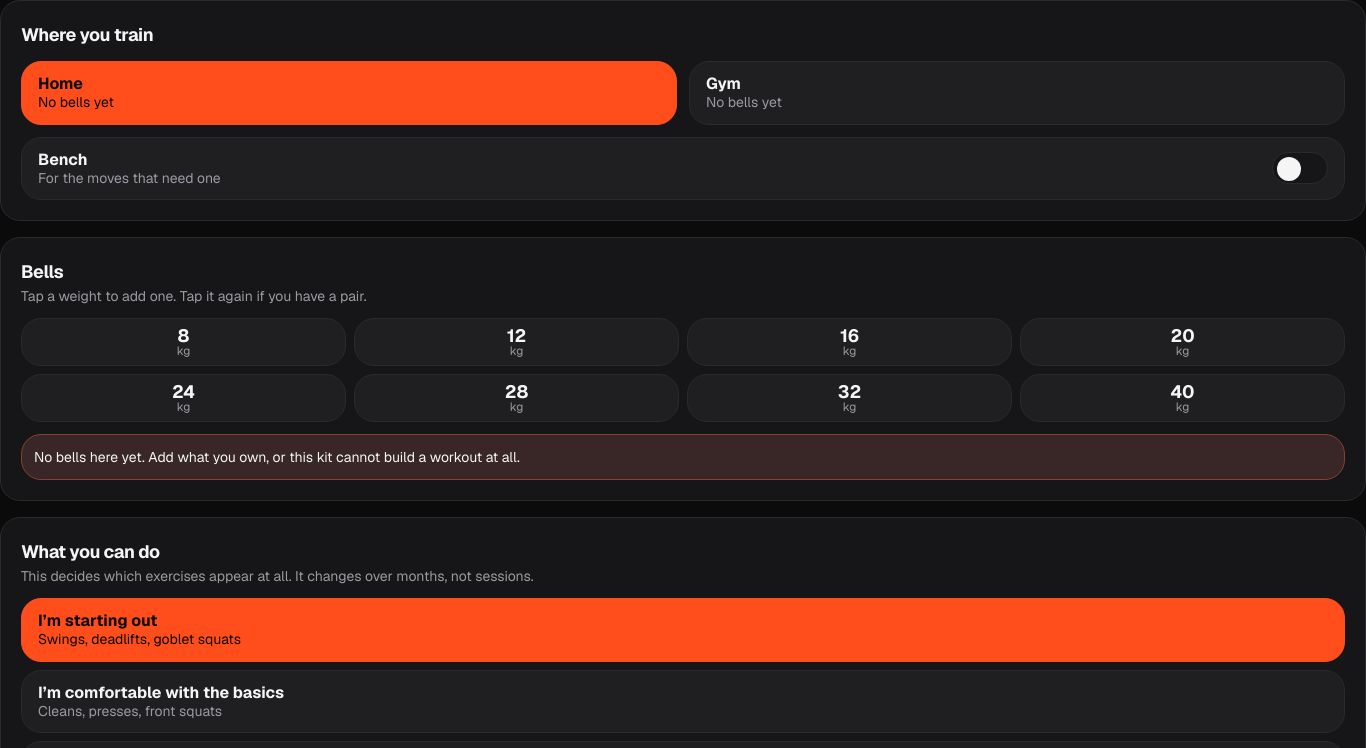
Test: KitEditor › adds a bell from a weight chip and persists it
Step 1. Click the button with aria-label "Add a 24 kg bell" → (184, 398), box top-left (21, 374), bottom-right (346, 422)
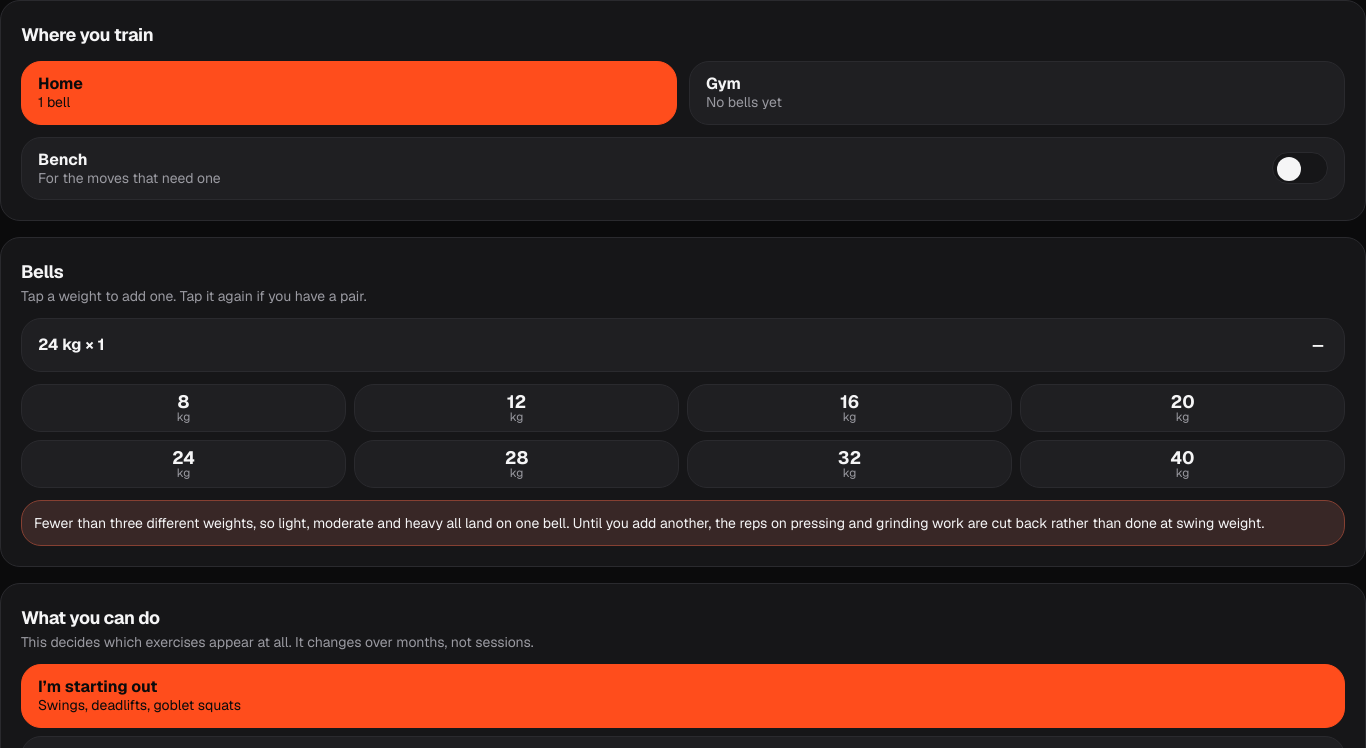
Check: the text "24 kg × 1" is shown, box top-left (38, 333), bottom-right (105, 357)
